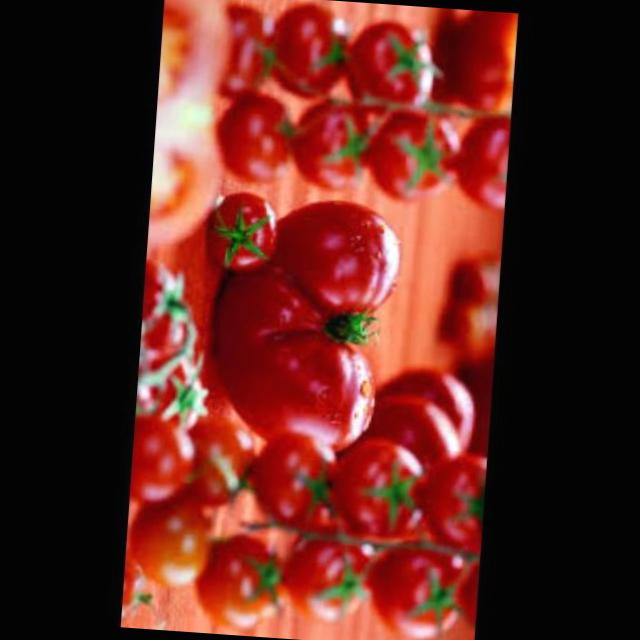Tomato: (194, 189, 404, 448), (149, 0, 244, 245), (380, 348, 493, 484), (192, 528, 302, 636), (361, 109, 466, 212), (340, 437, 436, 546), (367, 540, 471, 640), (288, 93, 378, 199), (277, 0, 365, 107), (252, 432, 344, 532), (356, 16, 442, 108), (414, 446, 490, 550), (190, 412, 266, 515), (134, 498, 220, 586), (224, 94, 302, 185), (209, 183, 277, 286), (298, 536, 378, 622), (132, 418, 203, 509), (142, 256, 207, 344), (137, 357, 210, 434), (221, 14, 288, 92), (462, 114, 513, 213)
